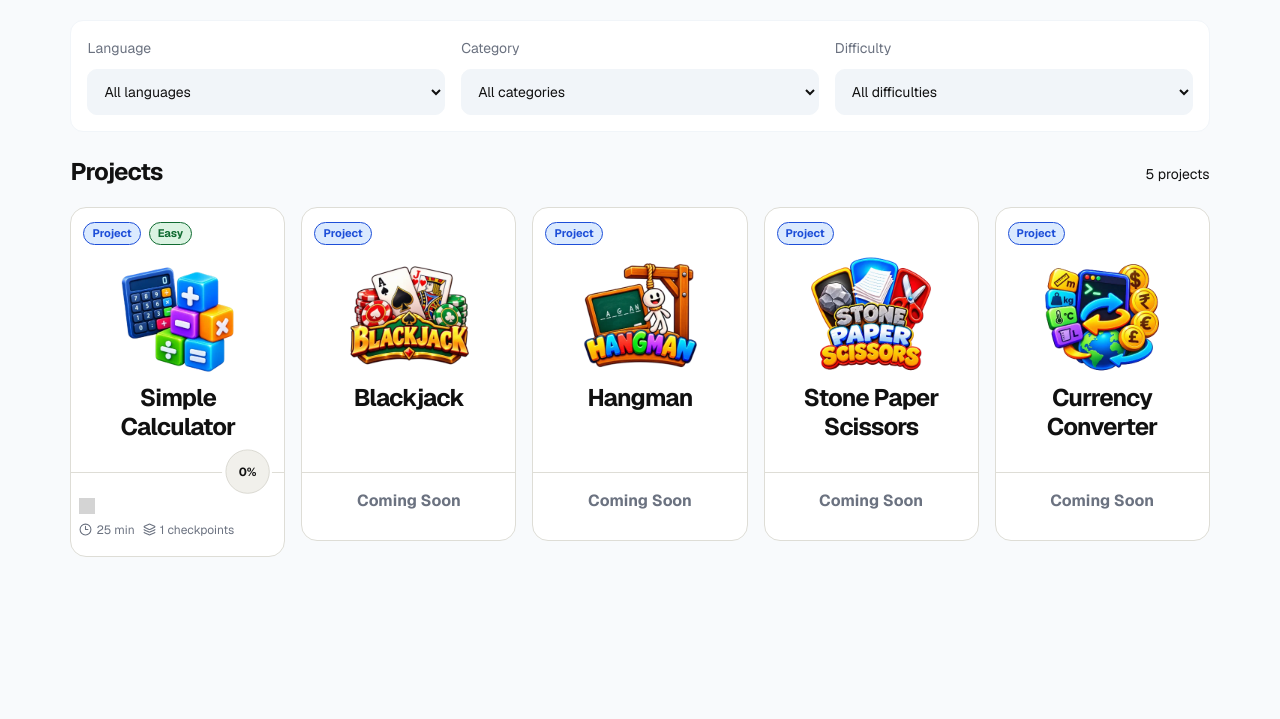
Test case: Projects filter cleanup › opens an overview from the whole project card
The width and height of the screenshot is (1280, 719).
Expected: the element named "Loading projects" is shown, [70,207,1210,557]
Expected: the button "Start Project" is not shown
What coordinates should you click on to do the following:
click the link "Project Easy Simple Calculator 0% 0% 25 min 1 checkpoints"
I would click on:
 (178, 382)
Its box is [70,207,285,557].
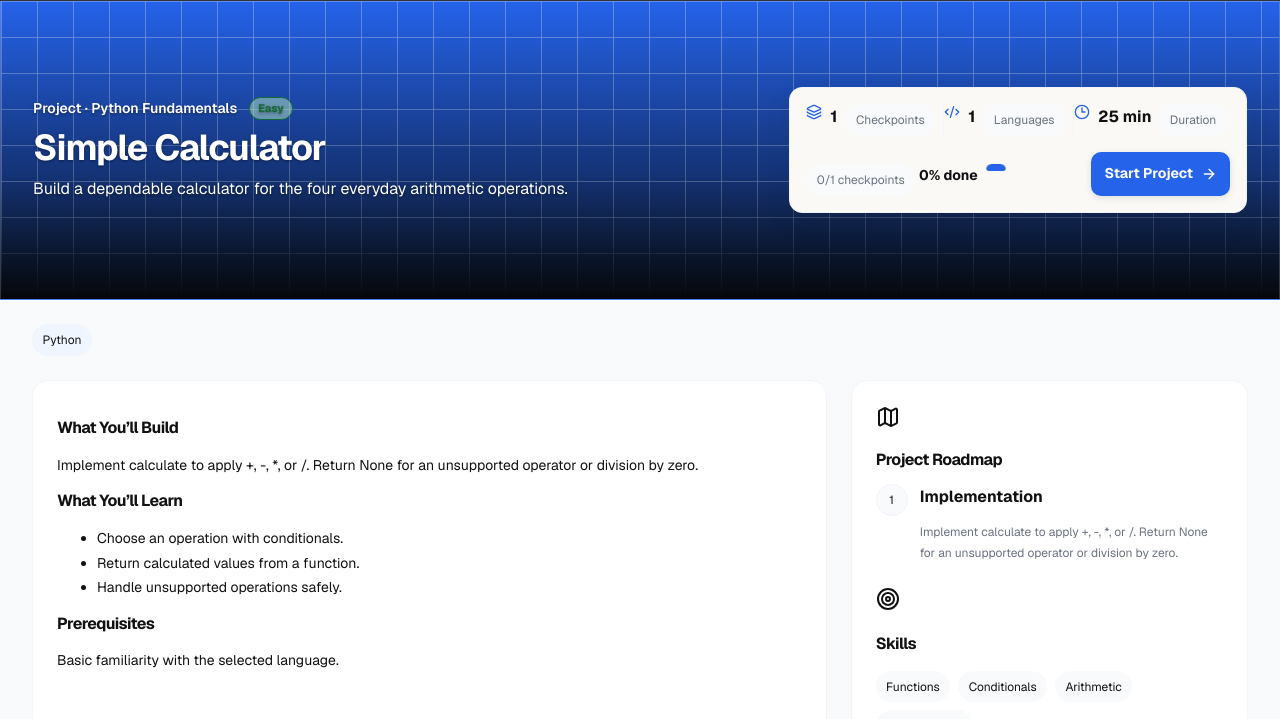
Expected: the button "Start Project" is shown, [1092,152,1230,196]
